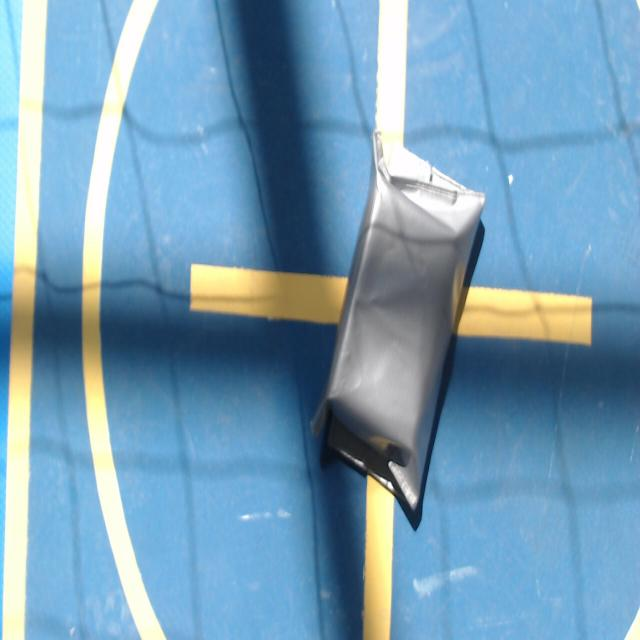lipo: (313, 132, 484, 517)
